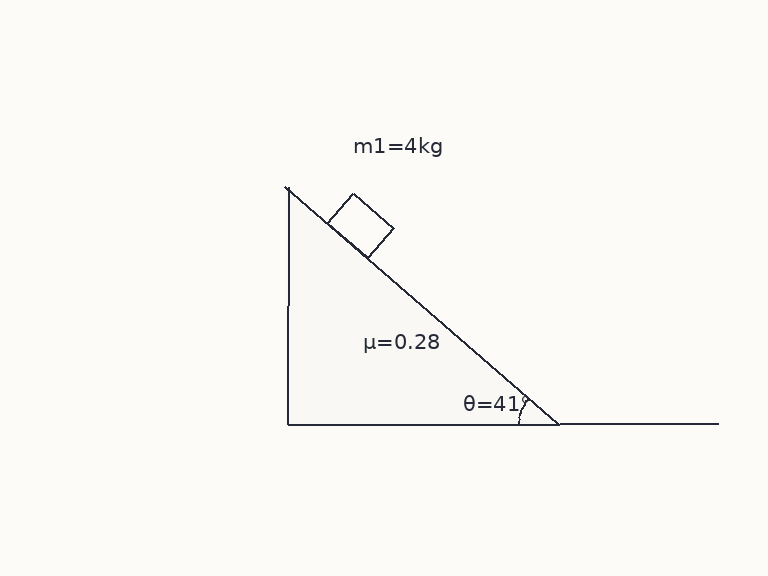block: (325, 191, 395, 259)
ramp: (285, 185, 561, 426)
